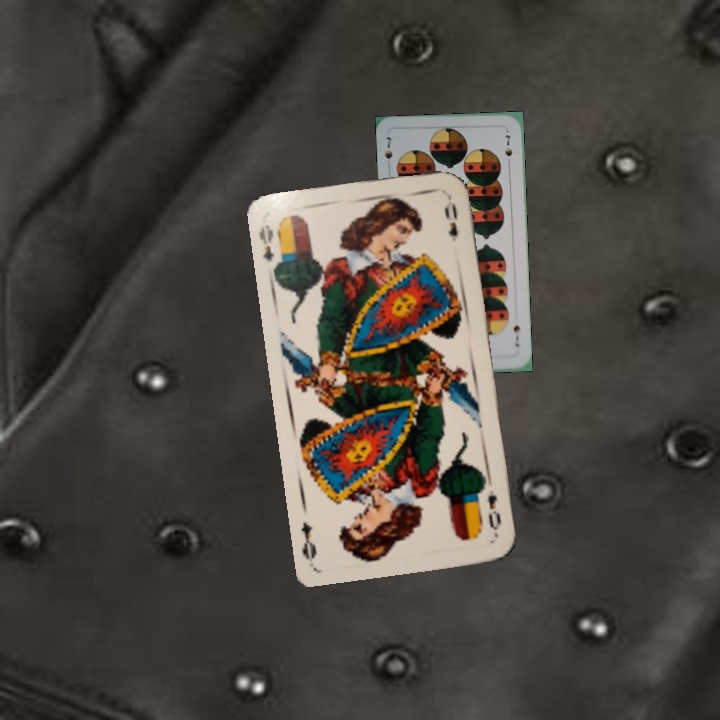EO: (483, 485, 504, 533), (255, 220, 277, 263)
S7: (381, 133, 395, 162), (509, 321, 522, 349)
